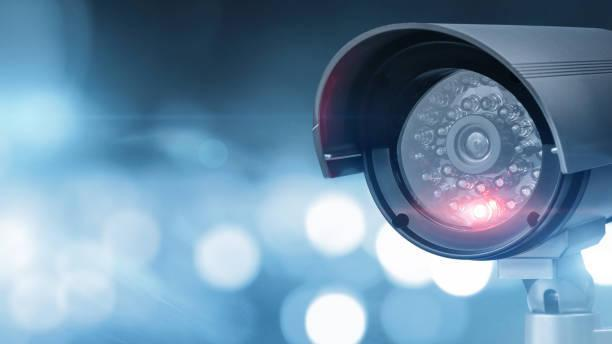camera: (299, 5, 612, 301)
